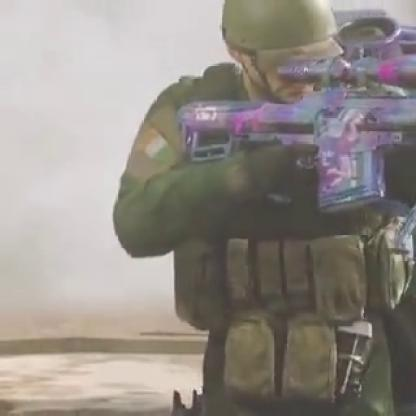enemy: (112, 0, 411, 408)
